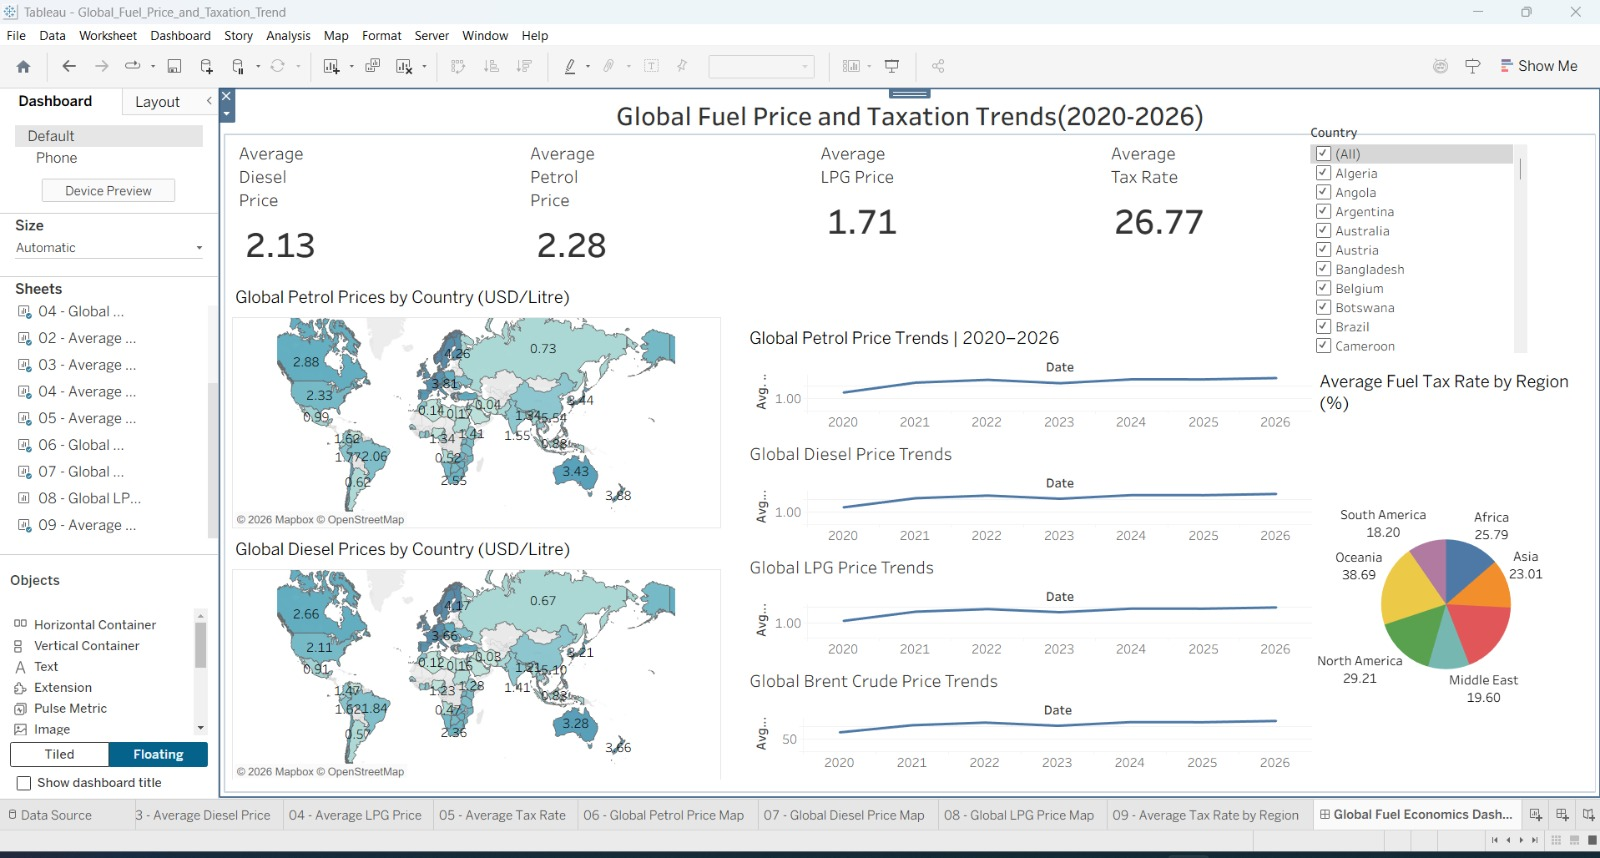

The page's visual inventory and layout, read from the dashboard file:
{"tool":"tableau","page":{"name":"Global Fuel Economics Dashboard","canvas":[1000,1000],"units":"permille","ordinal":0},"visuals":[{"type":"title","box":[4.8,9.4,990.3,57.6]},{"type":"filter","title":"06 - Global Petrol Price Map","param":"[federated.1rpxljs19qs9tg1ggonyl16r6rik].[none:country:nk]","box":[787,45.8,161.7,332.6]},{"type":"worksheet","title":"03 - Average Diesel Price","mark":"Automatic","box":[9.7,65.8,210.6,226.8]},{"type":"worksheet","title":"02 - Average Petrol Price","mark":"Automatic","box":[220.3,65.8,210,226.8]},{"type":"worksheet","title":"04 - Average LPG Price","mark":"Automatic","box":[430.3,65.8,210,226.8]},{"type":"worksheet","title":"05 - Average Tax Rate","mark":"Automatic","box":[640.3,65.8,210,226.8]},{"type":"worksheet","title":"06 - Global Petrol Price Map","mark":"Multipolygon","box":[7.2,270.3,358.5,354.3]},{"type":"worksheet","title":"01 - Global Petrol Price Trends","mark":"Line","rows":["petrol_usd_liter"],"cols":["date"],"box":[379,327.9,414,161]},{"type":"worksheet","title":"09 - Average Tax Rate by Region","mark":"Pie","box":[787.6,421.9,170.8,510]},{"type":"worksheet","title":"02 - Global Diesel Price Trends","mark":"Automatic","rows":["diesel_usd_liter"],"cols":["date"],"box":[379,488.8,414,159.8]},{"type":"worksheet","title":"07 - Global Diesel Price Map","mark":"Multipolygon","box":[7.2,624.6,358.5,354.3]},{"type":"worksheet","title":"03 - Global LPG Price Trends","mark":"Automatic","rows":["lpg_usd_liter"],"cols":["date"],"box":[379,648.6,414,159.8]},{"type":"worksheet","title":"04 - Global Brent Crude Price Trends","mark":"Automatic","rows":["brent_crude_usd"],"cols":["date"],"box":[379,808.5,414,159.8]}]}

Visuals, with their boxes on the dashboard's canvas, which has no fixed pixel size, in thousandths of its width and height (x1, y1, x2, y2). These are canvas units, not pixel positions in the 1600x858 screenshot, which may show the page scaled, cropped or inside an application window:
title: Rect(5, 9, 995, 67)
"06 - Global Petrol Price Map" filter: Rect(787, 46, 949, 378)
"03 - Average Diesel Price" worksheet: Rect(10, 66, 220, 293)
"02 - Average Petrol Price" worksheet: Rect(220, 66, 430, 293)
"04 - Average LPG Price" worksheet: Rect(430, 66, 640, 293)
"05 - Average Tax Rate" worksheet: Rect(640, 66, 850, 293)
"06 - Global Petrol Price Map" worksheet (Multipolygon marks): Rect(7, 270, 366, 625)
"01 - Global Petrol Price Trends" worksheet (Line marks): Rect(379, 328, 793, 489)
"09 - Average Tax Rate by Region" worksheet (Pie marks): Rect(788, 422, 958, 932)
"02 - Global Diesel Price Trends" worksheet: Rect(379, 489, 793, 649)
"07 - Global Diesel Price Map" worksheet (Multipolygon marks): Rect(7, 625, 366, 979)
"03 - Global LPG Price Trends" worksheet: Rect(379, 649, 793, 808)
"04 - Global Brent Crude Price Trends" worksheet: Rect(379, 808, 793, 968)
